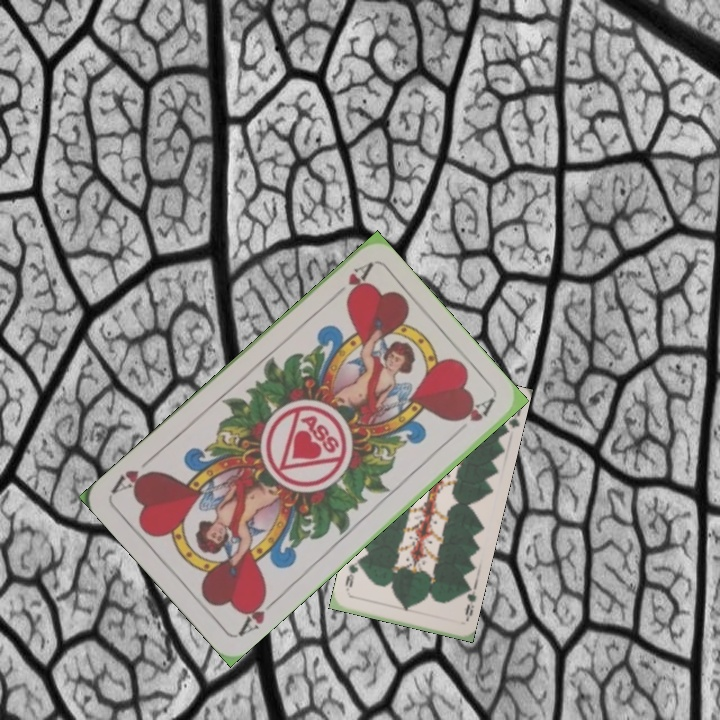G9: (459, 583, 479, 624)
HA: (234, 589, 282, 639), (325, 259, 375, 305)
